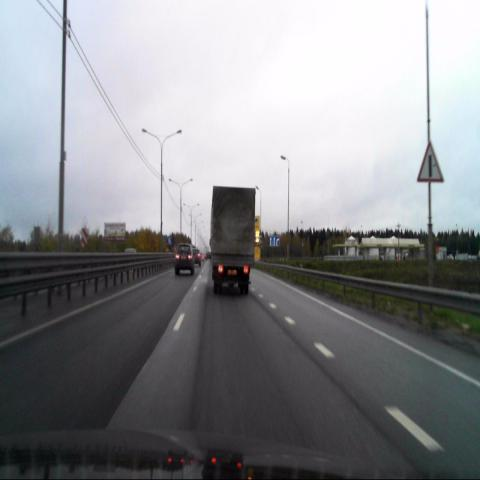5_15_1: (268, 235, 280, 246)
